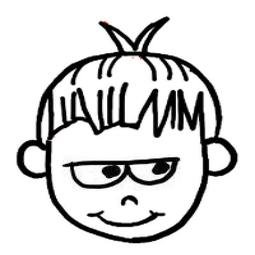ear: (198, 140, 249, 183), (9, 141, 50, 184)
eye: (66, 153, 126, 190), (126, 151, 182, 187)
mouth: (85, 205, 170, 230)
nose: (115, 192, 144, 207)
